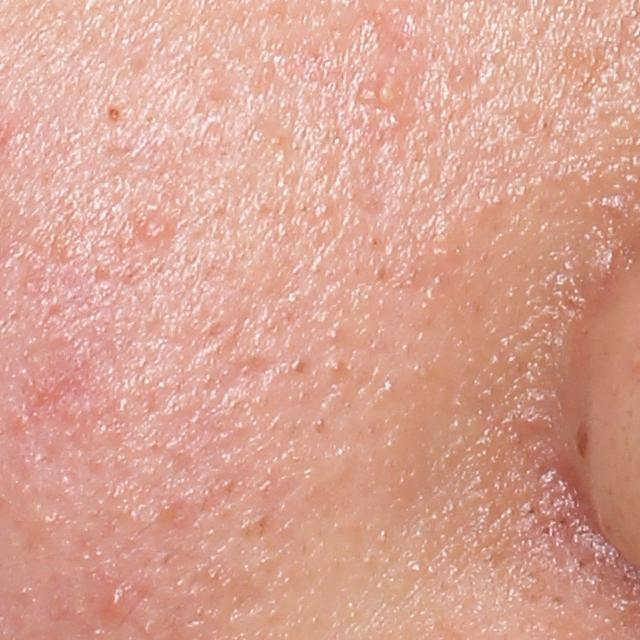comedo: (104, 104, 122, 123)
papule: (102, 583, 128, 620)
pustule: (356, 63, 412, 119)
